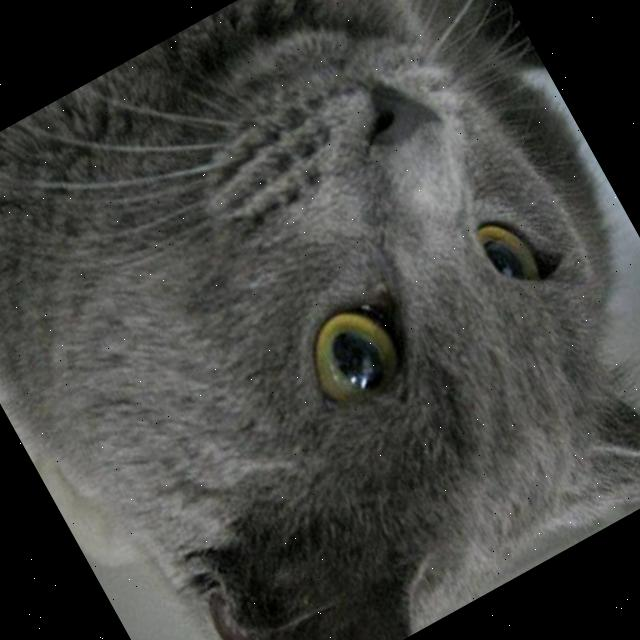cat-eye-normal: (276, 270, 447, 440), (460, 190, 580, 318)
